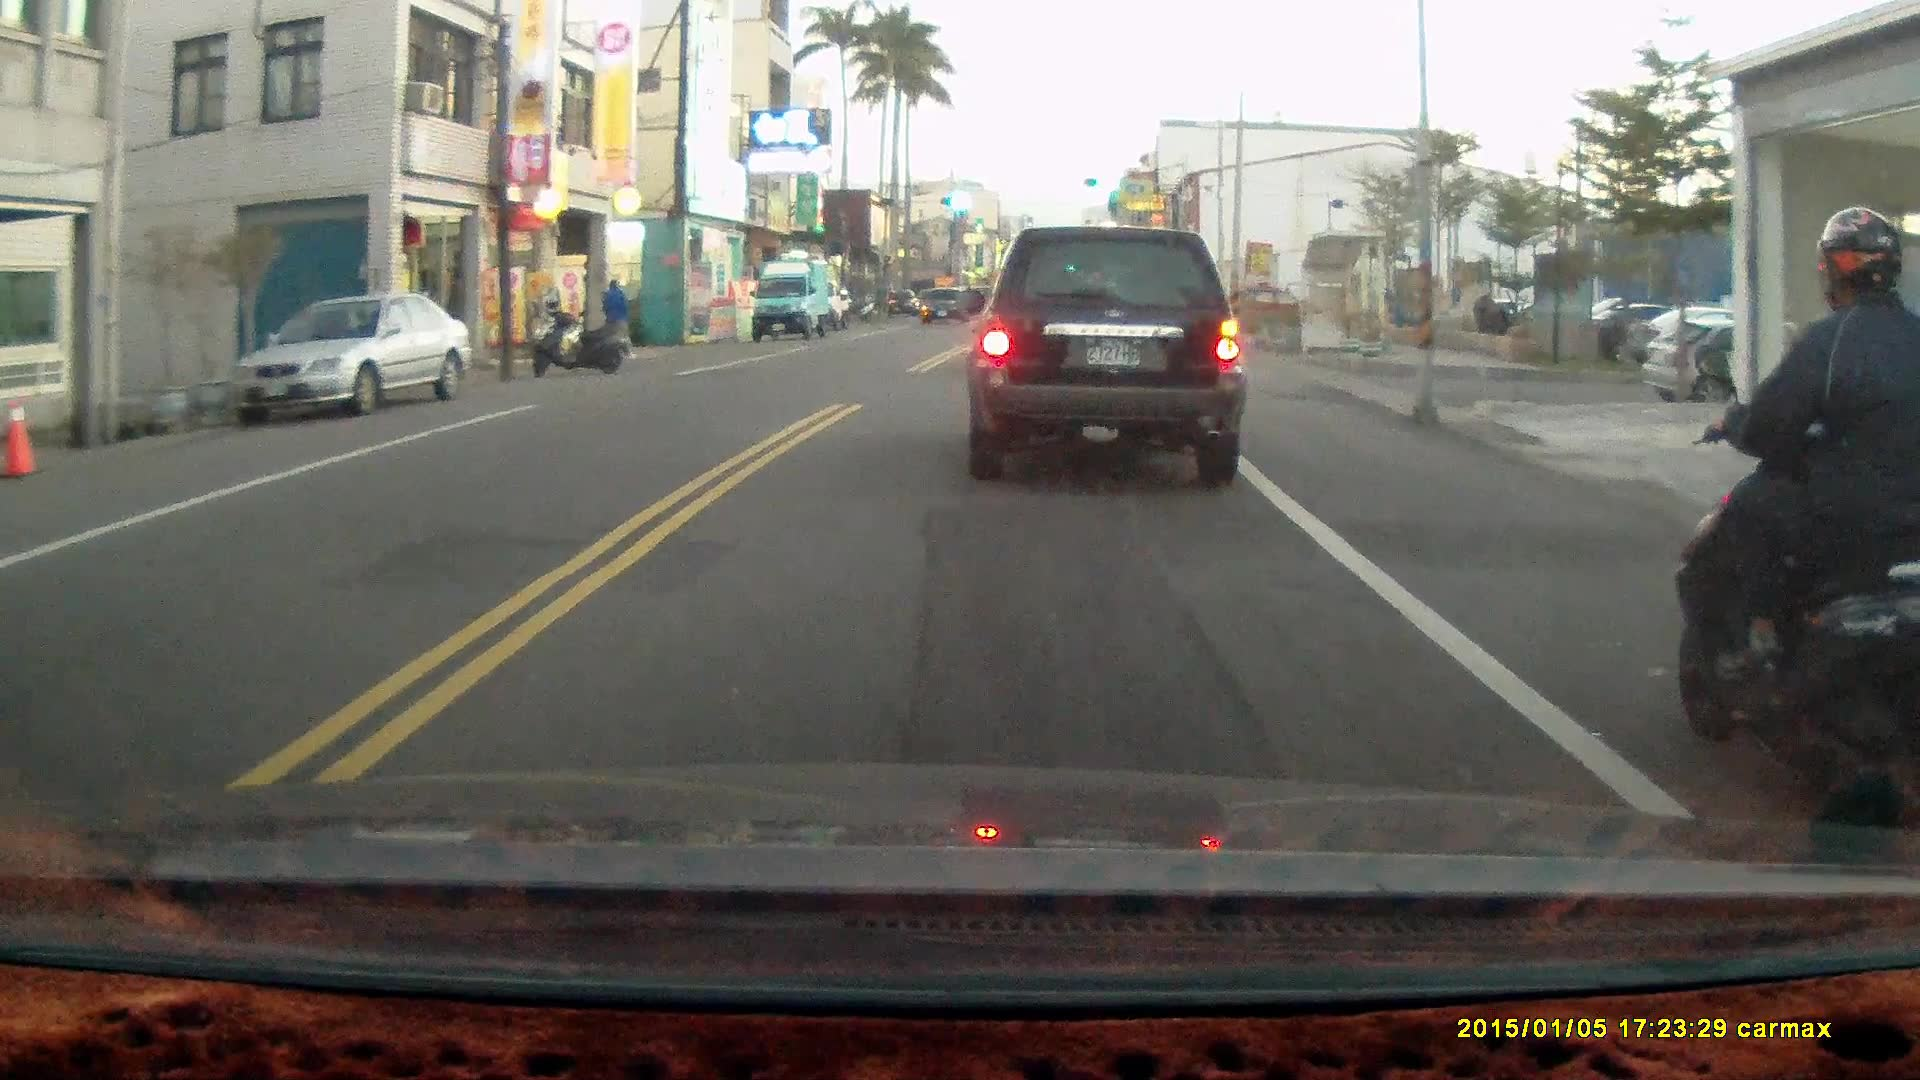pedestrian: (599, 275, 635, 362)
rider: (1664, 204, 1920, 862)
vehicle: (972, 225, 1249, 496), (234, 293, 470, 423), (1646, 321, 1871, 411), (750, 256, 831, 344), (920, 288, 975, 327)
